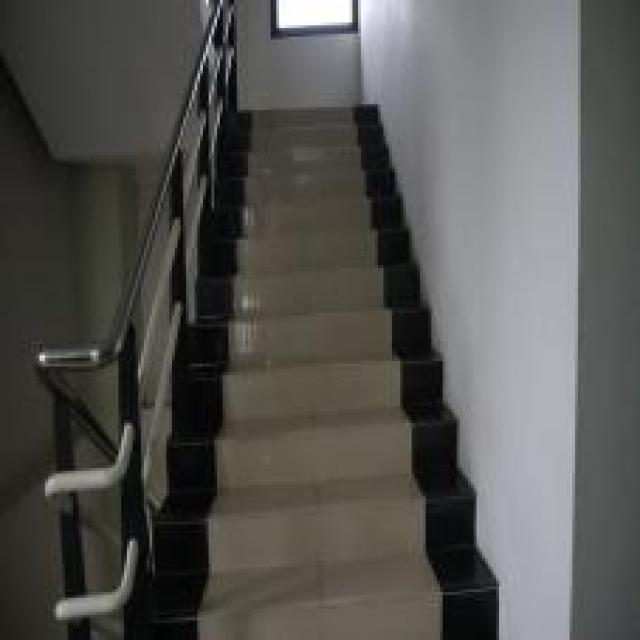upstair: (173, 134, 441, 638)
